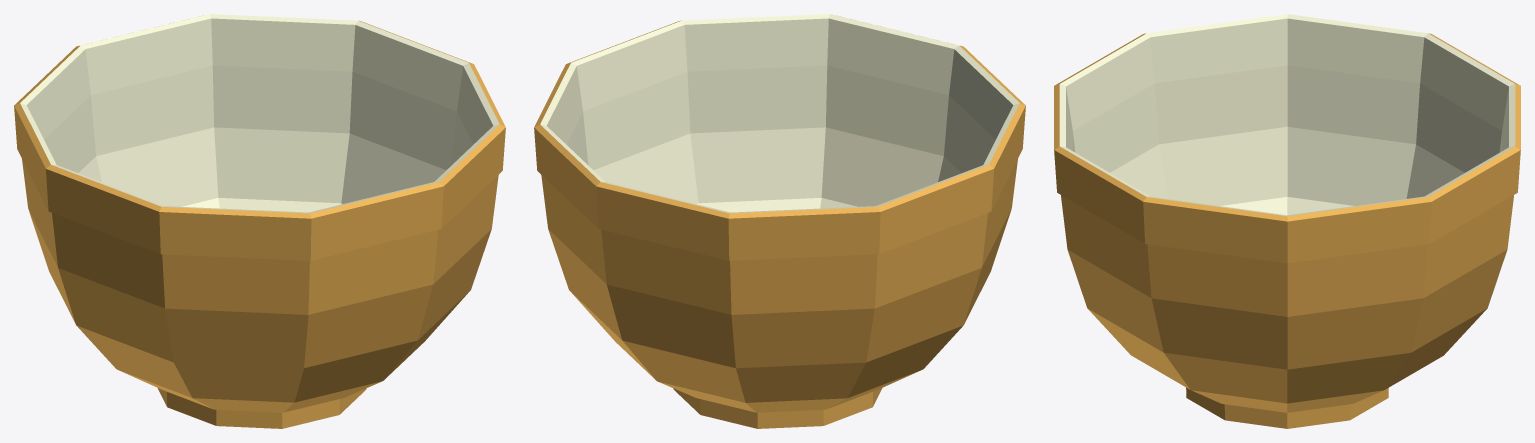
The model's file is Yellow Bowl.fbx.
3 renders of one model, left to right at view 1: azimuth 30°, elevation 25°; view 2: azimuth 150°, elevation 25°; view 3: azimuth 270°, elevation 25°, orthographic.
Parts seen in each view (by area): view 1: bowl; view 2: bowl; view 3: bowl.
Boxes of the visible parts, left/top/right/bottom form: bowl: left=14, top=14, right=505, bottom=428; bowl: left=534, top=14, right=1025, bottom=428; bowl: left=1054, top=14, right=1520, bottom=428.
Size of the model in its own units: 230 by 139 by 218.
